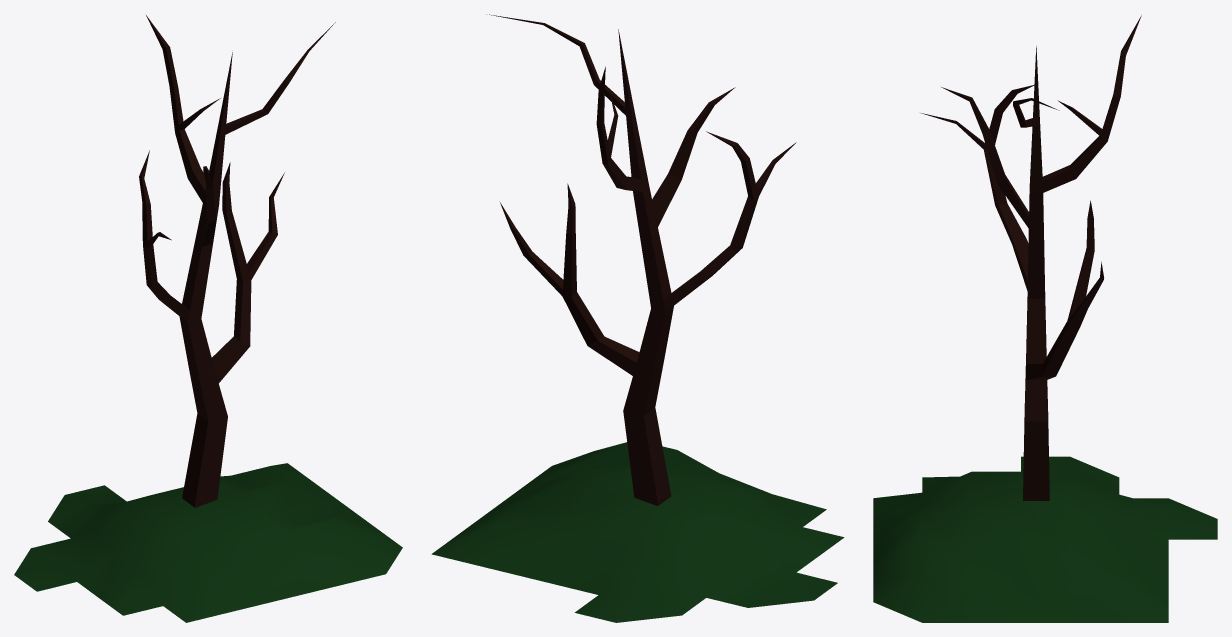
The model's file is DeadTree.FBX.
3 renders of one model, left to right at view 1: azimuth 30°, elevation 25°; view 2: azimuth 150°, elevation 25°; view 3: azimuth 270°, elevation 25°, orthographic. The views are drawn at different scales.
Parts seen in each view (by area): view 1: underground, Stamp; view 2: underground, Stamp; view 3: underground, Stamp.
Boxes of the visible parts, x1,y1,x2,y2 form: underground: (14, 463, 402, 622); Stamp: (139, 15, 335, 507); underground: (431, 442, 844, 622); Stamp: (487, 14, 796, 505); underground: (873, 456, 1217, 622); Stamp: (921, 15, 1141, 500).
Bounding box in the file's own units: 83.33 × 123 × 72.92.
